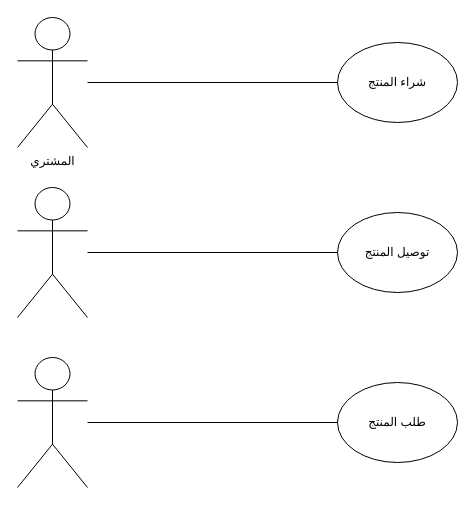
Image size: 475x526. Some labels were removed from this diagram. The shapes that lost their labels are listed below. From the top down, each one's centre as x and y in pixels, then its label:
point (52, 252): المورد
point (52, 422): المدير
